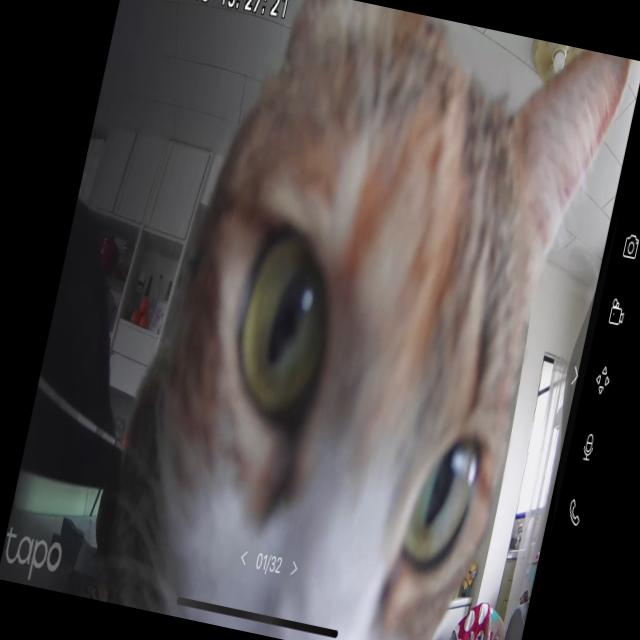cat2: (83, 0, 634, 640)
